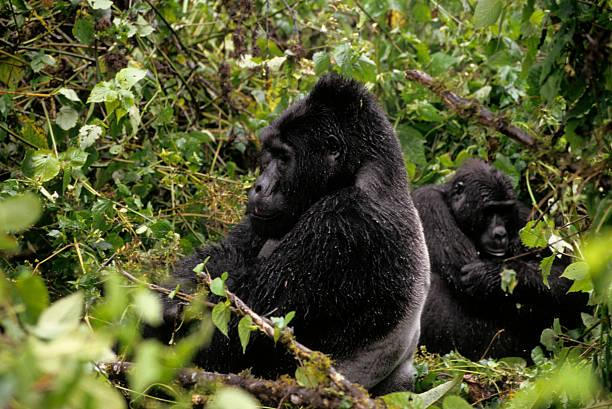goriile_montagne: (184, 77, 436, 396), (421, 147, 579, 356)
